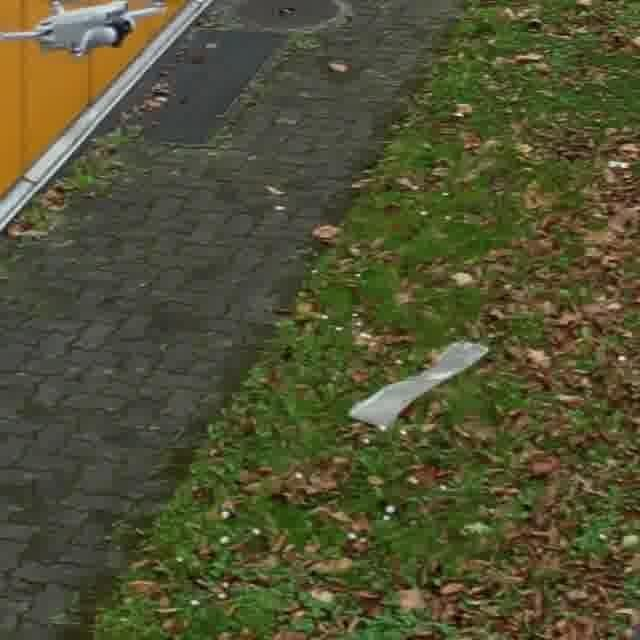Drohne: (0, 0, 164, 56)
